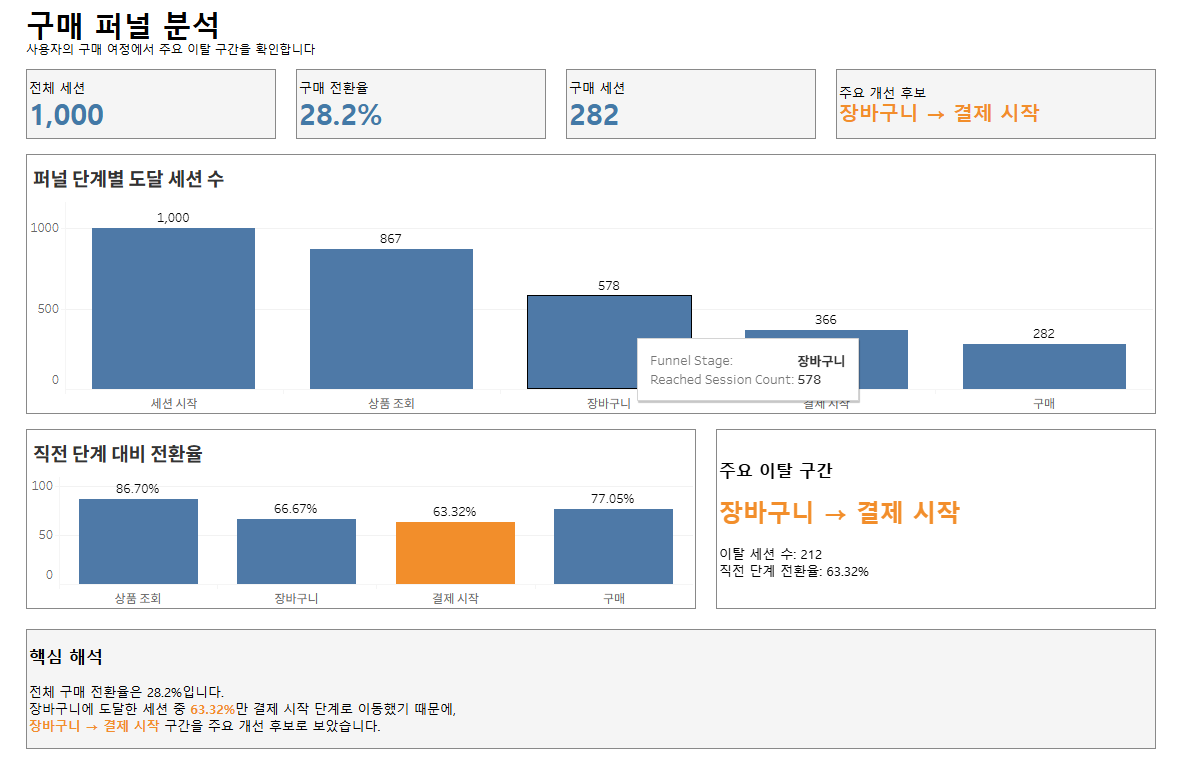

This screenshot's page, from the dashboard's own definition file:
{"tool":"tableau","page":{"name":"01_구매 퍼널 분","canvas":[1200,800],"ordinal":0},"visuals":[{"type":"text","box":[35,20,1000,55]},{"type":"text","box":[35,85,250,70]},{"type":"text","box":[305,85,250,70]},{"type":"text","box":[575,85,250,70]},{"type":"text","box":[845,85,320,70]},{"type":"worksheet","title":"퍼널단계별도달세션수","mark":"Bar","rows":["reached_session_count"],"cols":["funnel_stage"],"box":[35,170,1130,260]},{"type":"worksheet","title":"직전단계대비전환율","mark":"Bar","rows":["previous_stage_conversion_rate"],"cols":["funnel_stage"],"box":[35,445,670,180]},{"type":"text","box":[725,445,440,180]},{"type":"text","box":[35,645,1130,120]}]}

Visuals, with their boxes on the page's 1200x800 design canvas (x1, y1, x2, y2). These are canvas units, not pixel positions in the 1183x765 screenshot, which may show the page scaled, cropped or inside an application window:
text: 35 20 1035 75
text: 35 85 285 155
text: 305 85 555 155
text: 575 85 825 155
text: 845 85 1165 155
"퍼널단계별도달세션수" worksheet (Bar marks): 35 170 1165 430
"직전단계대비전환율" worksheet (Bar marks): 35 445 705 625
text: 725 445 1165 625
text: 35 645 1165 765
